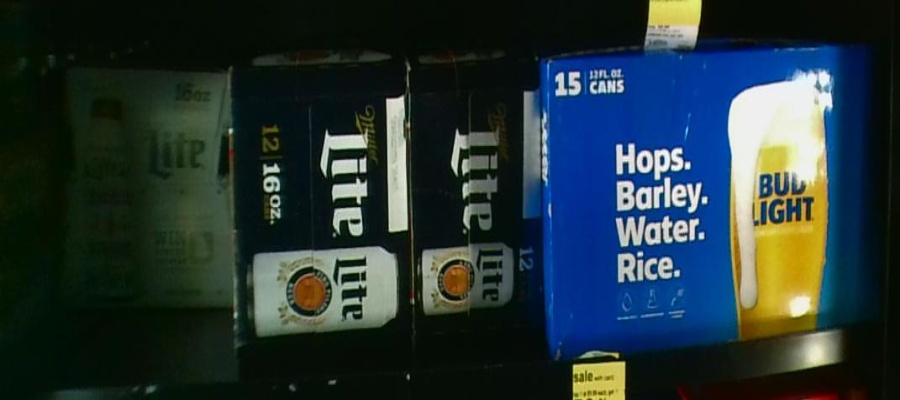bottle: (549, 47, 882, 333), (236, 65, 413, 372), (59, 62, 231, 314), (412, 64, 549, 360)
